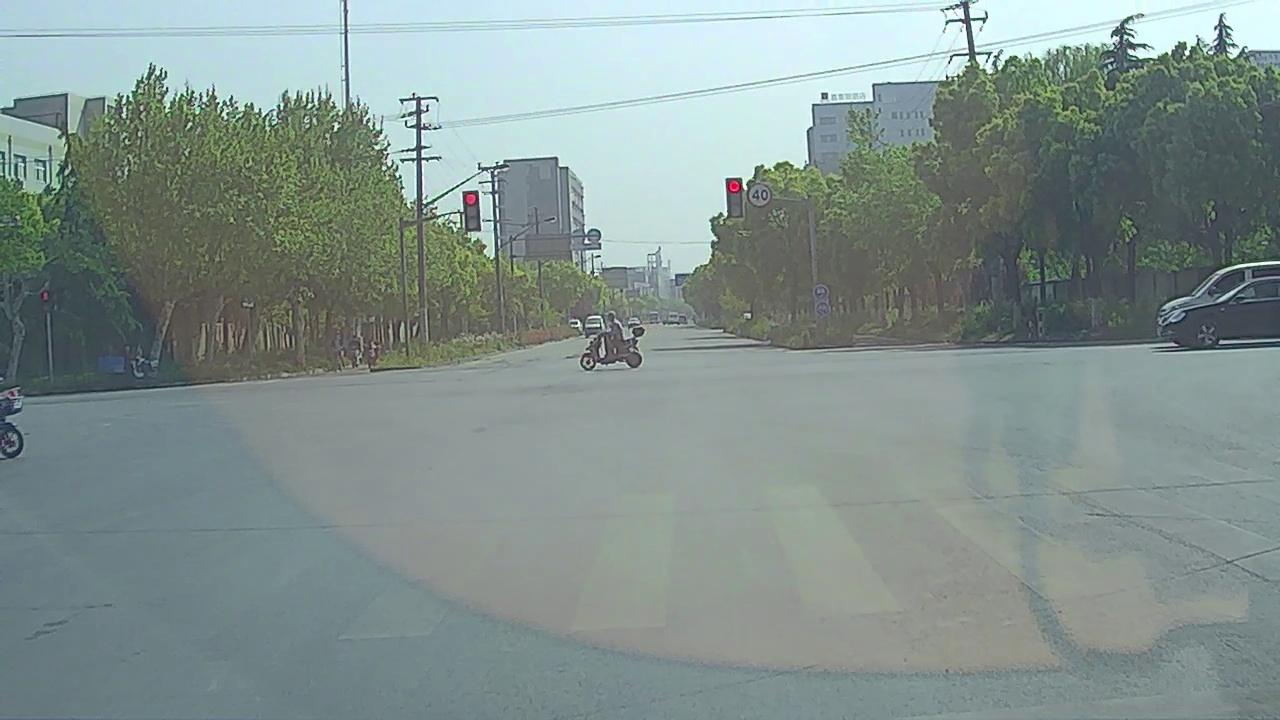traffic_light: (727, 178, 744, 219), (464, 192, 479, 231)
